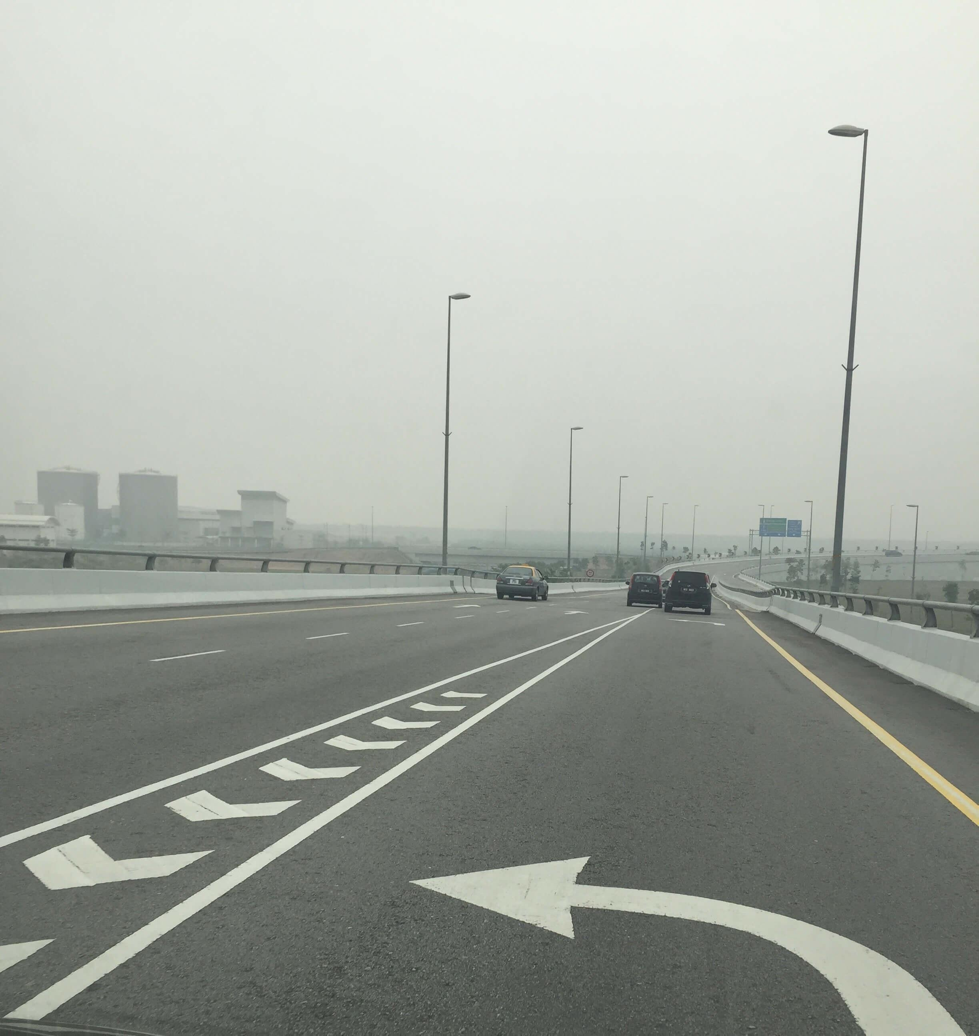car: (663, 569, 718, 616), (496, 564, 549, 603), (625, 571, 664, 609)
